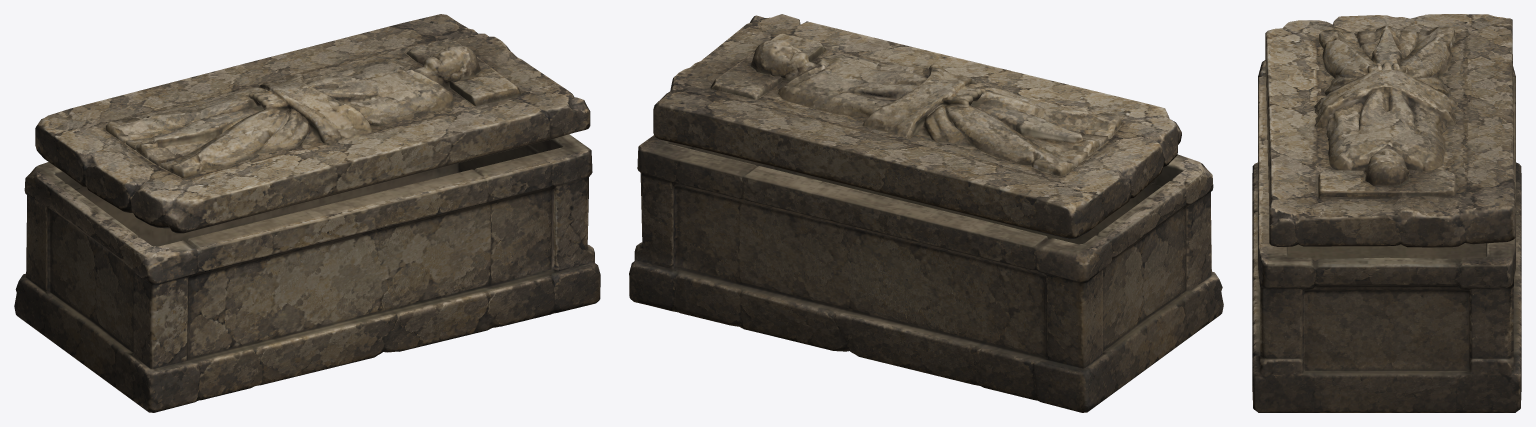
Rendered from dungeon_sarcophagus.glb.
The picture shows the model from 3 angles, left to right: view 1: azimuth 30°, elevation 25°; view 2: azimuth 150°, elevation 25°; view 3: azimuth 270°, elevation 25°; orthographic projection. The views are drawn at different scales.
Visible parts, largest first — view 1: tripo_7e62ad98_88ce_4e41_b96c_bff77574abc3; view 2: tripo_7e62ad98_88ce_4e41_b96c_bff77574abc3; view 3: tripo_7e62ad98_88ce_4e41_b96c_bff77574abc3.
Boxes of the visible parts, x1,y1,x2,y2 form: tripo_7e62ad98_88ce_4e41_b96c_bff77574abc3: (14, 14, 600, 412); tripo_7e62ad98_88ce_4e41_b96c_bff77574abc3: (629, 14, 1223, 412); tripo_7e62ad98_88ce_4e41_b96c_bff77574abc3: (1252, 14, 1521, 412).
Size of the model in its own units: 0.9995 by 0.4771 by 0.5259.
1 material, 1 textured.
